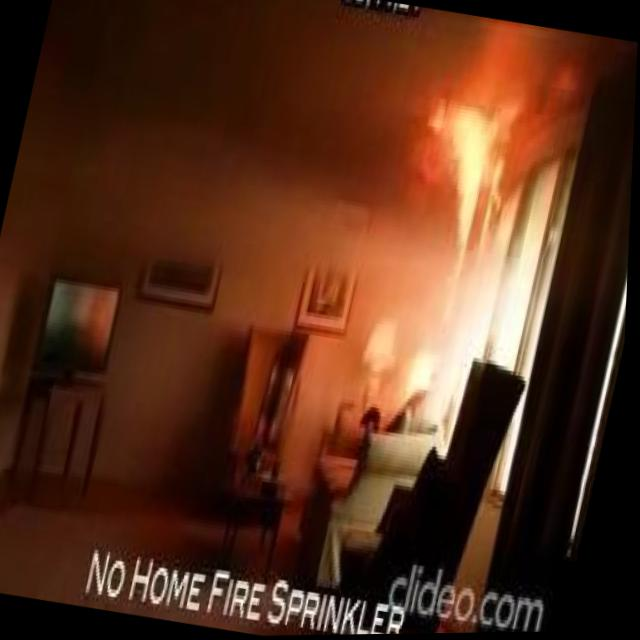fire: (398, 97, 502, 263)
